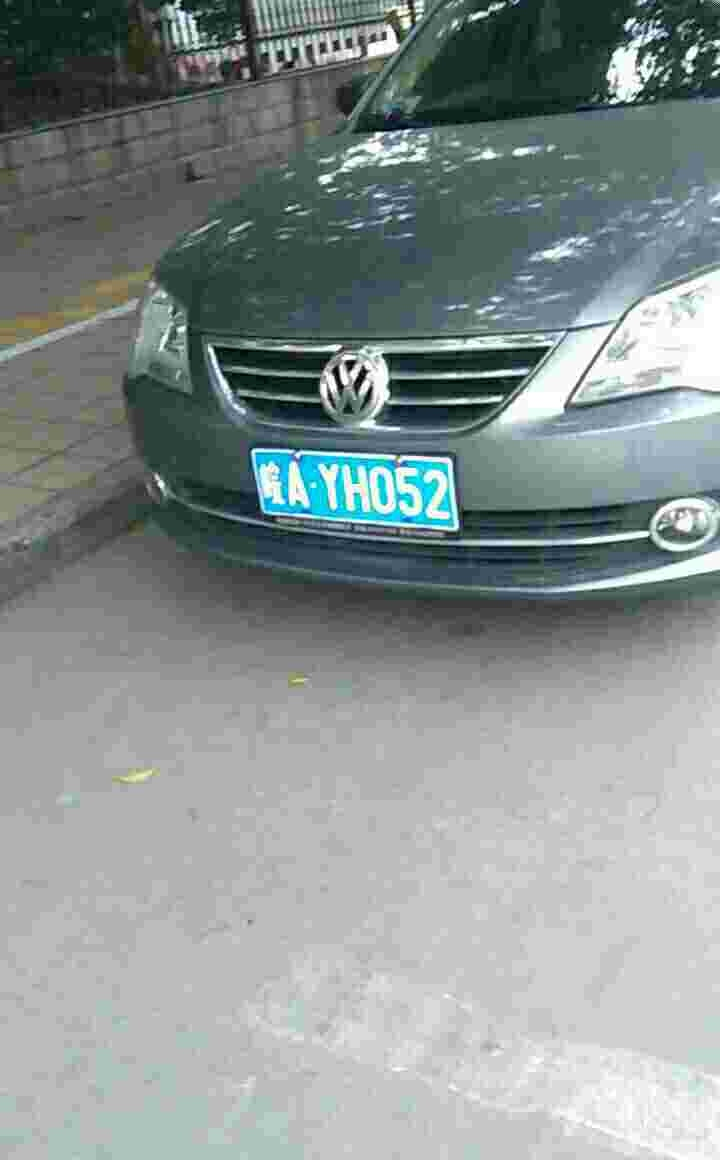license_plate: (252, 460, 458, 526)
